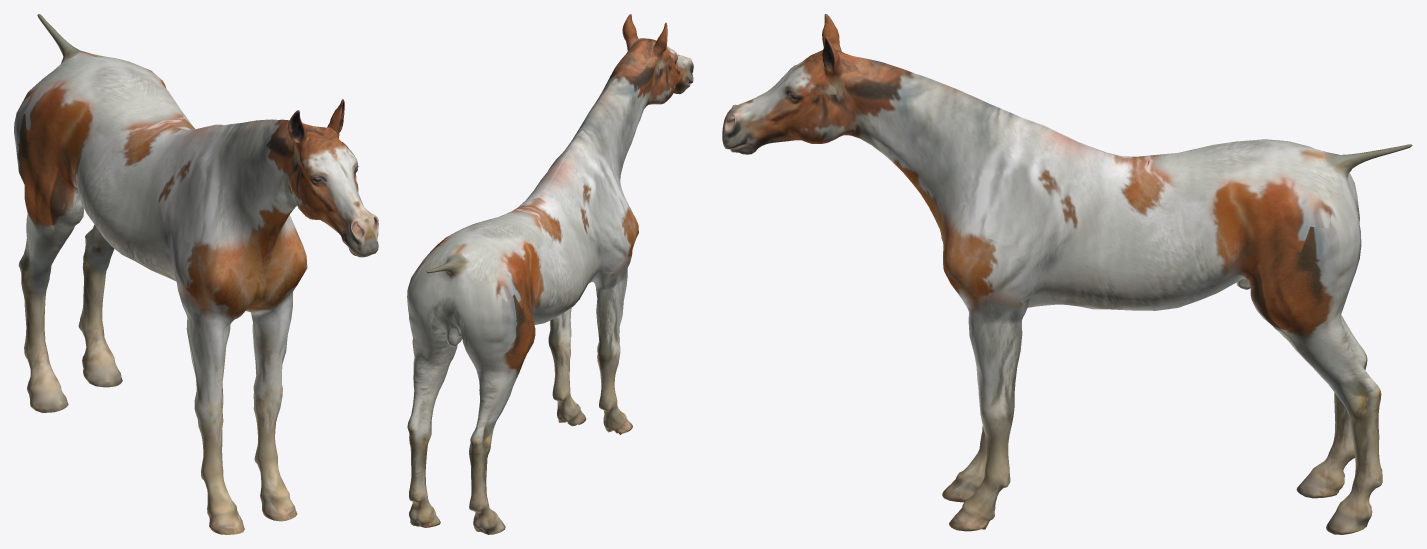
The model's file is horse_009_arabian_galgoPosesV1.obj.
3 views of the same model, side by side, from view 1: azimuth 30°, elevation 25°; view 2: azimuth 150°, elevation 25°; view 3: azimuth 270°, elevation 25° (orthographic). The views are drawn at different scales.
Bounding box in the file's own units: 0.6199 × 1.99 × 2.56.
